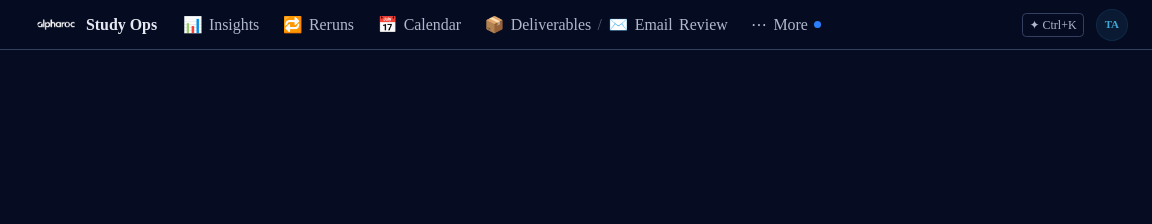
Test: the account menu › closes on Escape
Click the button with aria-label "Account" at (1112, 25), box [1097,10,1127,40]
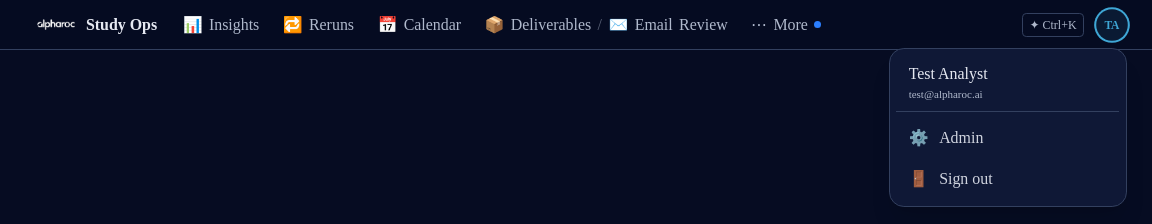
expect the link "🚪 Sign out" is shown: met, box [909,170,993,187]
Press Escape
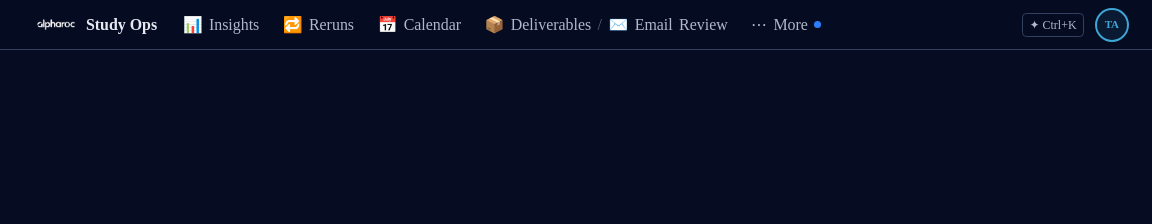
expect the link "Sign out" is gone: met
